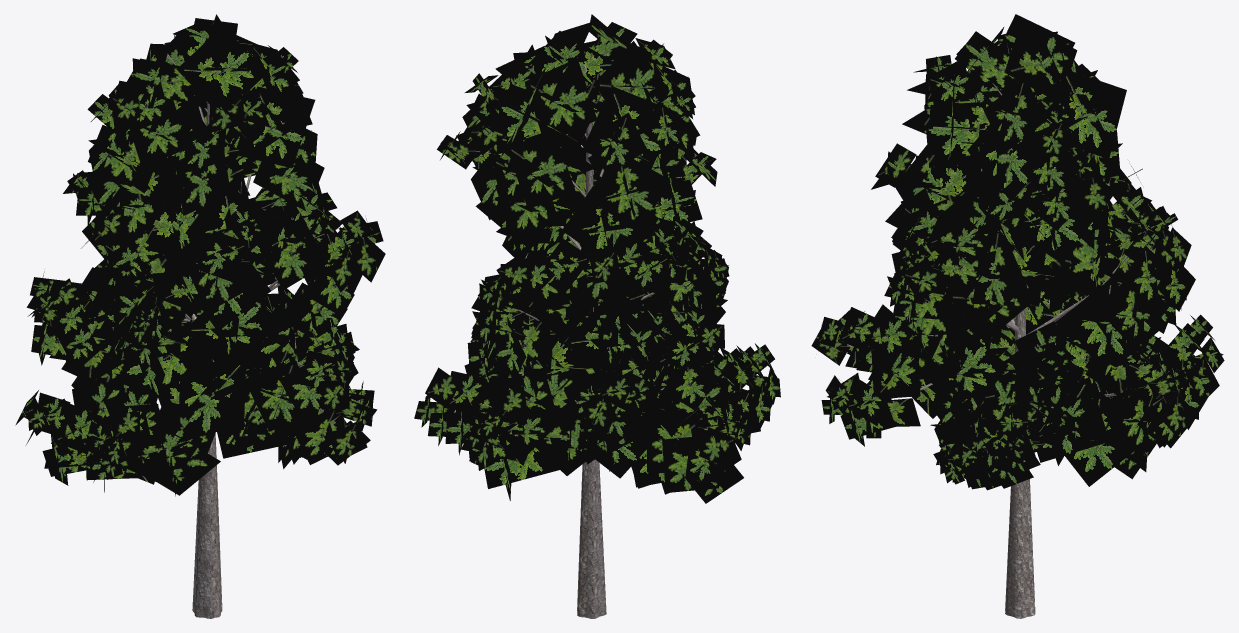
Rendered from tree1_LOD0.fbx.
3 views of the same model, side by side, from view 1: azimuth 30°, elevation 25°; view 2: azimuth 150°, elevation 25°; view 3: azimuth 270°, elevation 25° (orthographic).
Parts seen in each view (by area): view 1: branch04_2, bark03_0; view 2: branch04_2, bark03_0; view 3: branch04_2, bark03_0.
Boxes of the visible parts, <box> form: branch04_2: <box>15,14,385,496</box>; bark03_0: <box>65,53,342,618</box>; branch04_2: <box>414,14,780,503</box>; bark03_0: <box>465,42,734,618</box>; branch04_2: <box>811,14,1224,490</box>; bark03_0: <box>839,43,1163,618</box>.
Bounding box in the file's own units: 550 × 1054 × 665.
